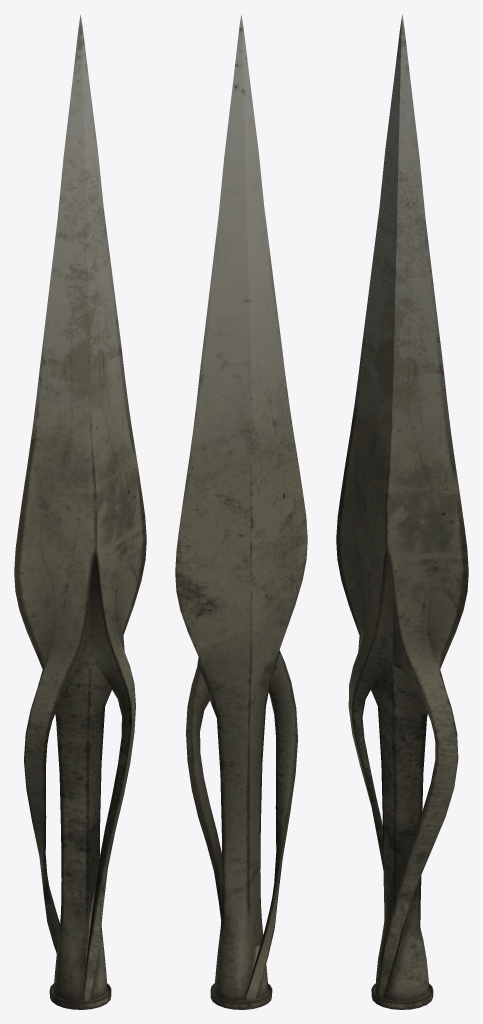
The model's file is wm_rivendell_spear_a01_blade.fbx.
3 renders of one model, left to right at view 1: azimuth 30°, elevation 25°; view 2: azimuth 210°, elevation 25°; view 3: azimuth 330°, elevation 25°, orthographic.
Visible parts, largest first — view 1: wm_rivendell_spear_a01_blade; view 2: wm_rivendell_spear_a01_blade; view 3: wm_rivendell_spear_a01_blade.
Part boxes in pixels (bbox=[...]): wm_rivendell_spear_a01_blade: bbox=[14, 15, 146, 1009]; wm_rivendell_spear_a01_blade: bbox=[175, 15, 307, 1009]; wm_rivendell_spear_a01_blade: bbox=[336, 15, 468, 1009].
Size of the model in its own units: 0.081 by 0.0329 by 0.5737.
Materials: 1 (1 with a texture image).
